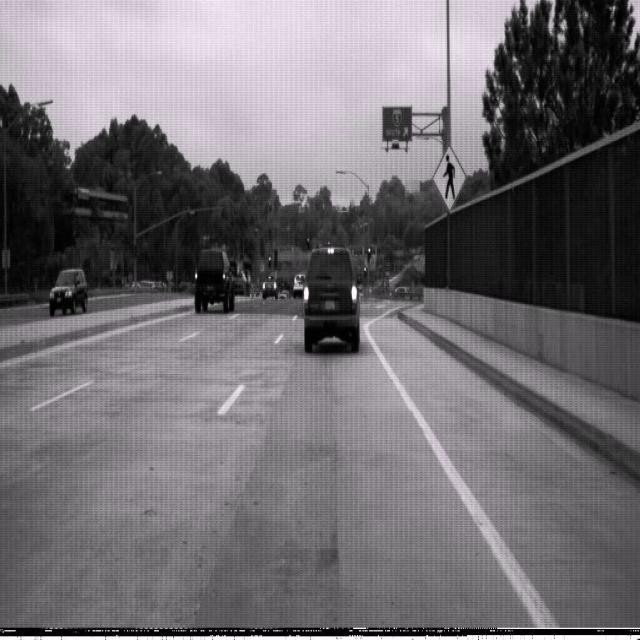pedestrianCrossing: (432, 143, 467, 214)
